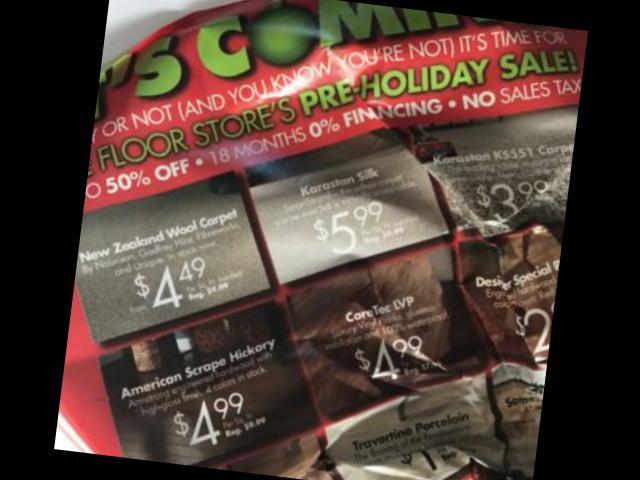cardboard paper: (55, 0, 587, 480)
